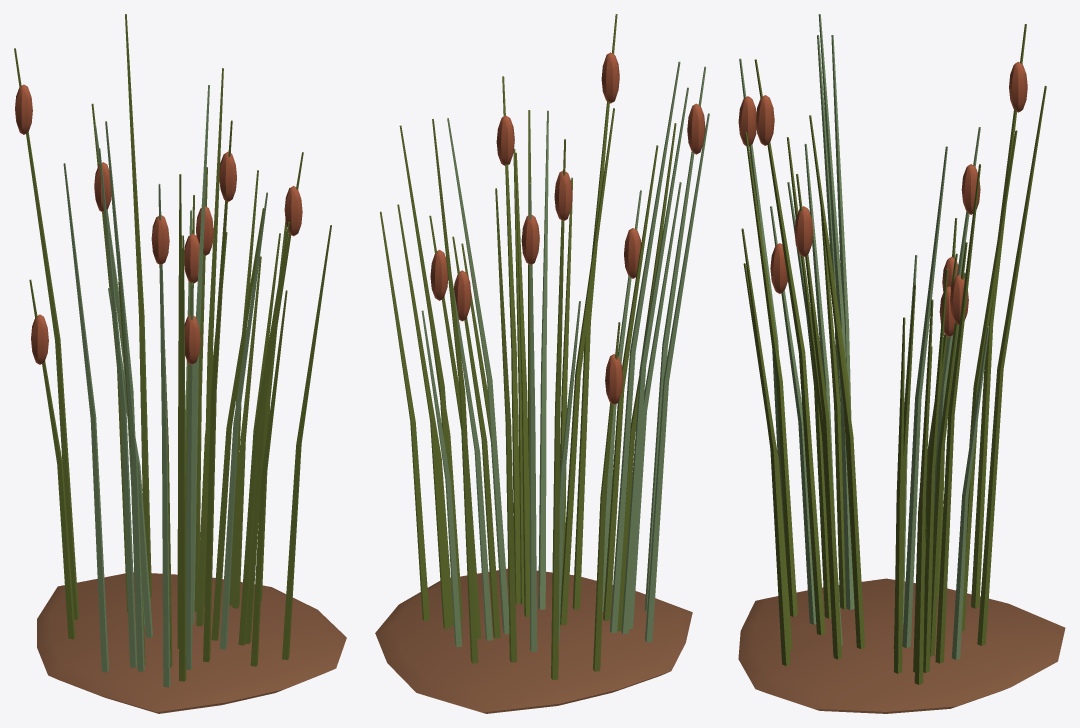
Rendered from deco_plant_reeds.fbx.
3 views of the same model, side by side, from view 1: azimuth 30°, elevation 25°; view 2: azimuth 150°, elevation 25°; view 3: azimuth 270°, elevation 25° (orthographic).
Visible parts, largest first — view 1: Plant_Reeds_Reeds; view 2: Plant_Reeds_Reeds; view 3: Plant_Reeds_Reeds.
Boxes of the visible parts, <box> form: Plant_Reeds_Reeds: <box>14,14,346,713</box>; Plant_Reeds_Reeds: <box>375,14,709,713</box>; Plant_Reeds_Reeds: <box>738,14,1065,713</box>.
Size of the model in its own units: 122 by 240 by 122.
